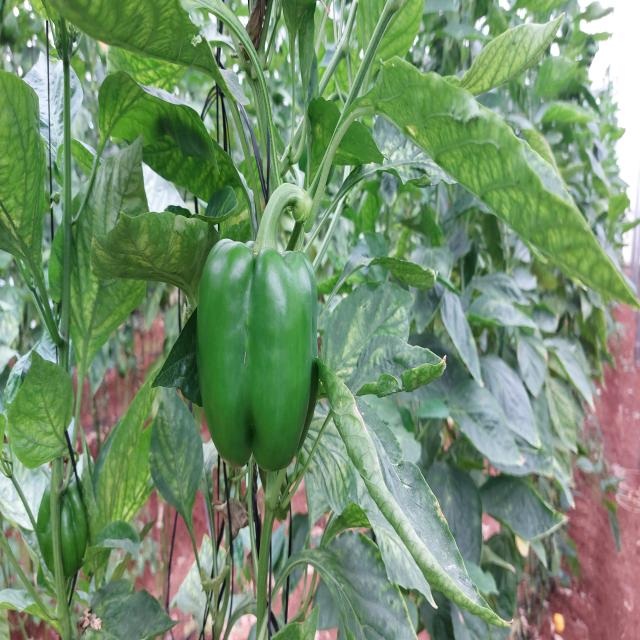Green--Not-ready-to-harvest: (198, 241, 320, 474), (36, 480, 88, 577)
